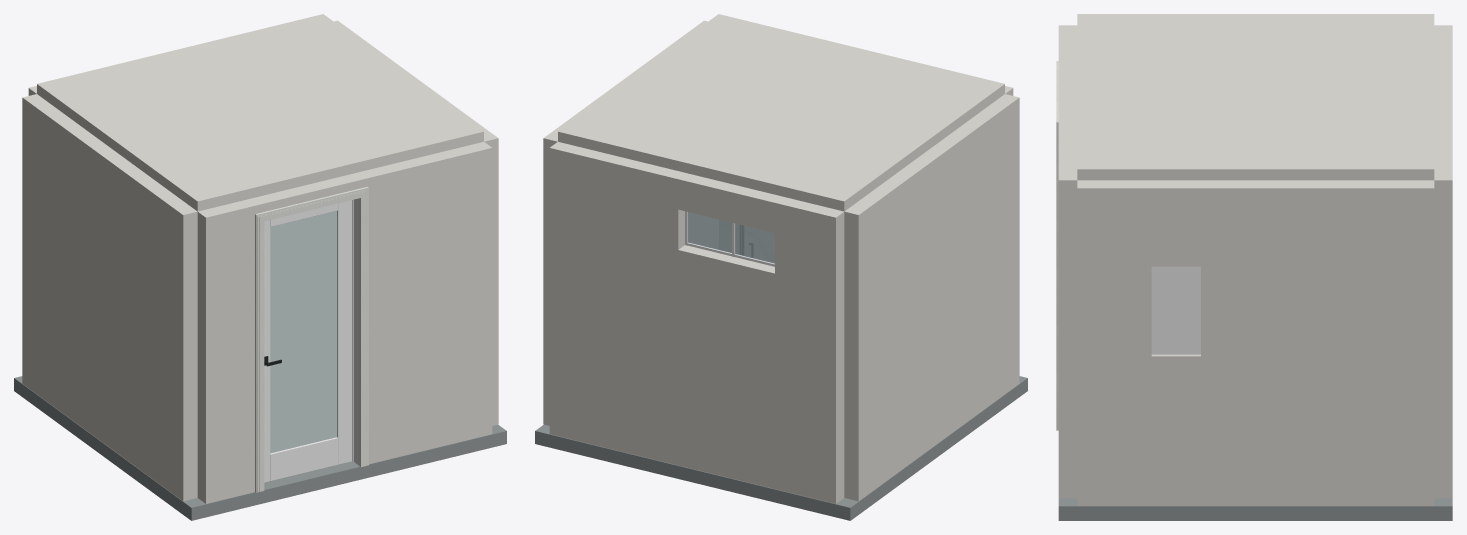
Rendered from bathroom-configurations.glb.
3 views of the same model, side by side, from view 1: azimuth 30°, elevation 25°; view 2: azimuth 150°, elevation 25°; view 3: azimuth 270°, elevation 25° (orthographic). The views are drawn at different scales.
Parts seen in each view (by area): view 1: Left wall, Ceiling · hidden initially, Entrance wall · right return, Entrance wall · left return, Shaker door frosted pane, Floor slab, Shaker door hinge stile, Shaker door bottom rail, Entrance jamb right, Shaker door latch stile, Entrance wall · header, Casing wood face outside right 4 (+5 smaller); view 2: Back wall · below window, Left wall, Ceiling · hidden initially, Back wall · above window, Floor slab, Back wall · right return, Back wall · left return, Two-pane window glass, Right wall · toilet end; view 3: Ceiling · hidden initially, Right wall · toilet end, Right wall · below niche, Right wall · above niche, Entrance wall · right return, Right wall · front return, Right wall · back return, Floor slab, Back wall · below window, Homevacious vertical niche back, Back wall · above window, Entrance wall · header (+3 smaller).
Boxes of the visible parts, bbox=[...] form: Left wall: bbox=[22, 94, 197, 501]; Ceiling · hidden initially: bbox=[37, 14, 483, 211]; Entrance wall · right return: bbox=[354, 142, 492, 463]; Entrance wall · left return: bbox=[197, 198, 260, 503]; Shaker door frosted pane: bbox=[270, 211, 336, 453]; Floor slab: bbox=[14, 376, 506, 520]; Shaker door hinge stile: bbox=[337, 200, 351, 464]; Shaker door bottom rail: bbox=[270, 437, 337, 481]; Entrance jamb right: bbox=[353, 198, 359, 465]; Shaker door latch stile: bbox=[264, 220, 270, 482]; Entrance wall · header: bbox=[253, 173, 361, 212]; Casing wood face outside right 4: bbox=[360, 191, 365, 467]; Back wall · below window: bbox=[549, 218, 844, 503]; Left wall: bbox=[844, 94, 1019, 501]; Ceiling · hidden initially: bbox=[558, 14, 1004, 211]; Back wall · above window: bbox=[549, 142, 844, 247]; Floor slab: bbox=[535, 376, 1027, 520]; Back wall · right return: bbox=[549, 178, 684, 249]; Back wall · left return: bbox=[775, 233, 844, 288]; Two-pane window glass: bbox=[688, 212, 774, 263]; Right wall · toilet end: bbox=[543, 86, 618, 425]; Ceiling · hidden initially: bbox=[1077, 14, 1434, 180]; Right wall · toilet end: bbox=[1275, 180, 1434, 505]; Right wall · below niche: bbox=[1077, 354, 1275, 505]; Right wall · above niche: bbox=[1077, 180, 1275, 266]; Entrance wall · right return: bbox=[1058, 109, 1077, 498]; Right wall · front return: bbox=[1077, 266, 1151, 356]; Right wall · back return: bbox=[1201, 266, 1275, 356]; Floor slab: bbox=[1058, 498, 1452, 520]; Back wall · below window: bbox=[1434, 259, 1452, 498]; Homevacious vertical niche back: bbox=[1151, 266, 1200, 354]; Back wall · above window: bbox=[1434, 25, 1452, 213]; Entrance wall · header: bbox=[1058, 55, 1077, 109].
Bounding box in the file's own units: 2.49 × 2.34 × 2.44.
Materials: 20 (4 with a texture image).
